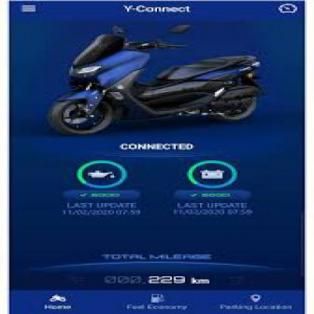Motocicleta: (42, 17, 277, 133)
